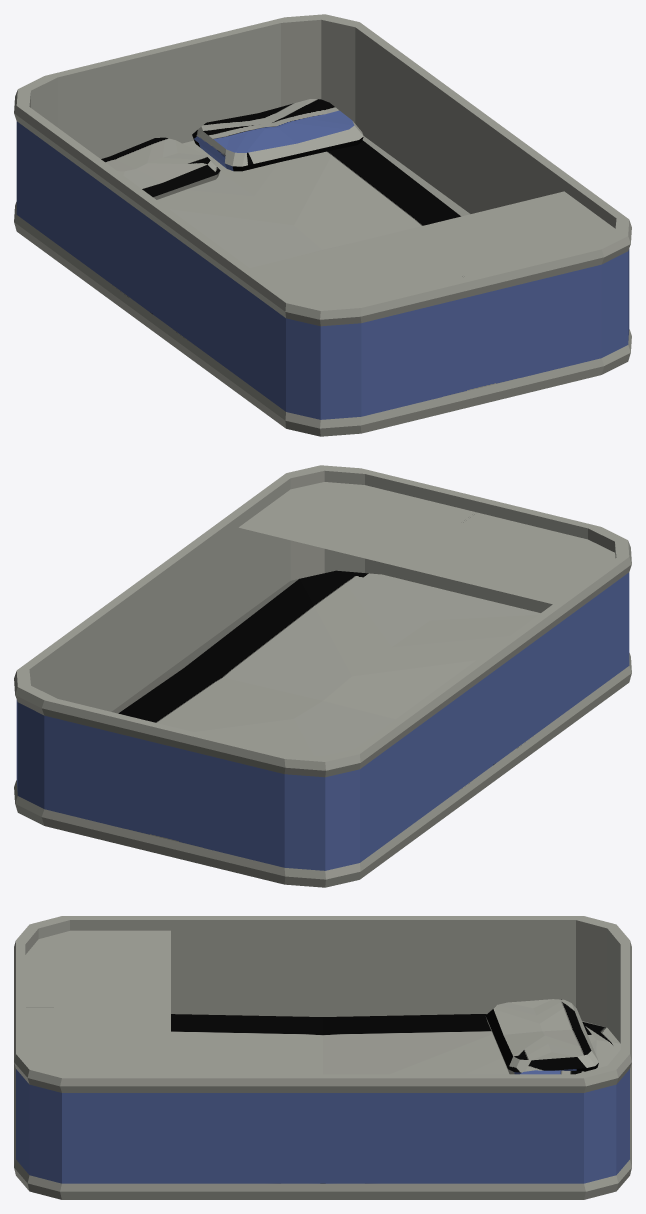
The model's file is SardineCan.fbx.
The picture shows the model from 3 angles, top to bottom: view 1: azimuth 30°, elevation 25°; view 2: azimuth 150°, elevation 25°; view 3: azimuth 270°, elevation 25°; orthographic projection. The views are drawn at different scales.
Visible parts, largest first — view 1: can, Bed, lid, Pillows; view 2: can, Bed, lid; view 3: can, Bed, lid, Pillows.
Boxes of the visible parts, left/top/right/bottom form: can: left=14, top=14, right=631, bottom=436; Bed: left=157, top=136, right=470, bottom=267; lid: left=250, top=191, right=615, bottom=305; Pillows: left=101, top=99, right=363, bottom=199; can: left=14, top=465, right=631, bottom=887; Bed: left=112, top=570, right=540, bottom=756; lid: left=239, top=482, right=615, bottom=604; can: left=14, top=916, right=631, bottom=1199; Bed: left=171, top=1014, right=620, bottom=1074; lid: left=25, top=930, right=170, bottom=1074; Pillows: left=485, top=999, right=598, bottom=1074.
Size of the model in its own units: 202 by 70 by 322.
Materials: 1 (1 with a texture image).
